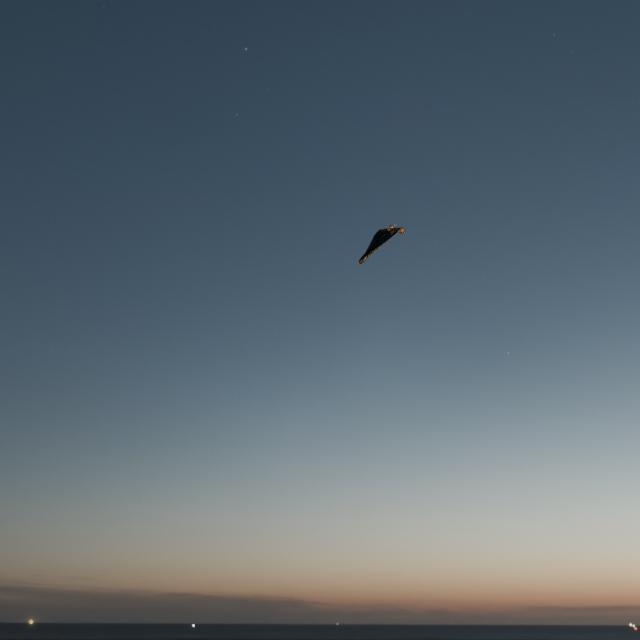Airaplan: (359, 225, 407, 264)
